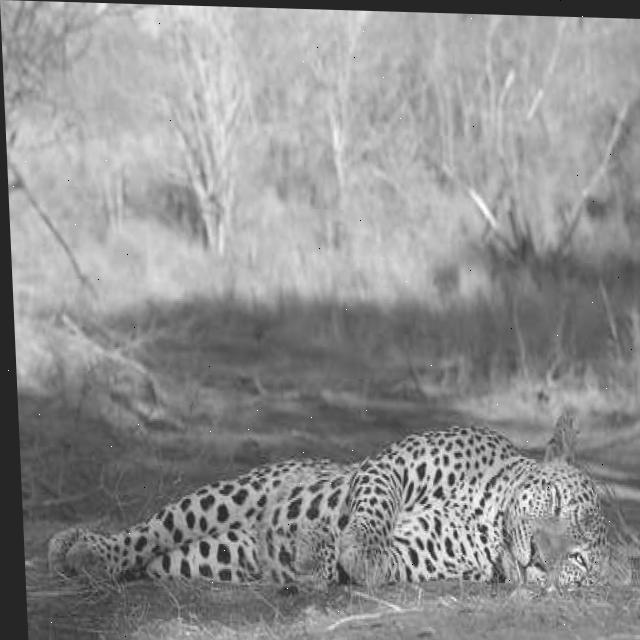Leopard: (39, 391, 640, 608)
